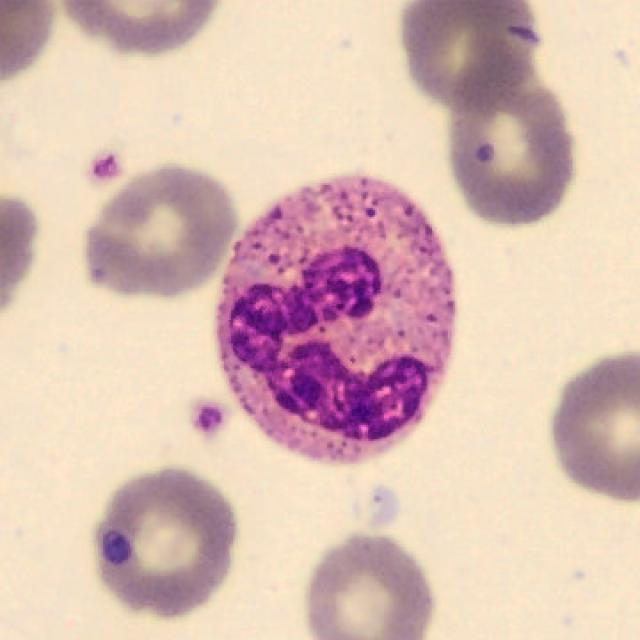Neutrofilo segmentado: (215, 176, 457, 466)
